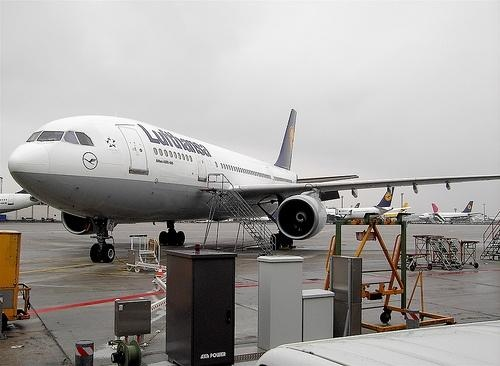aeroplane: (9, 107, 499, 263), (325, 188, 411, 223), (421, 200, 482, 226)
